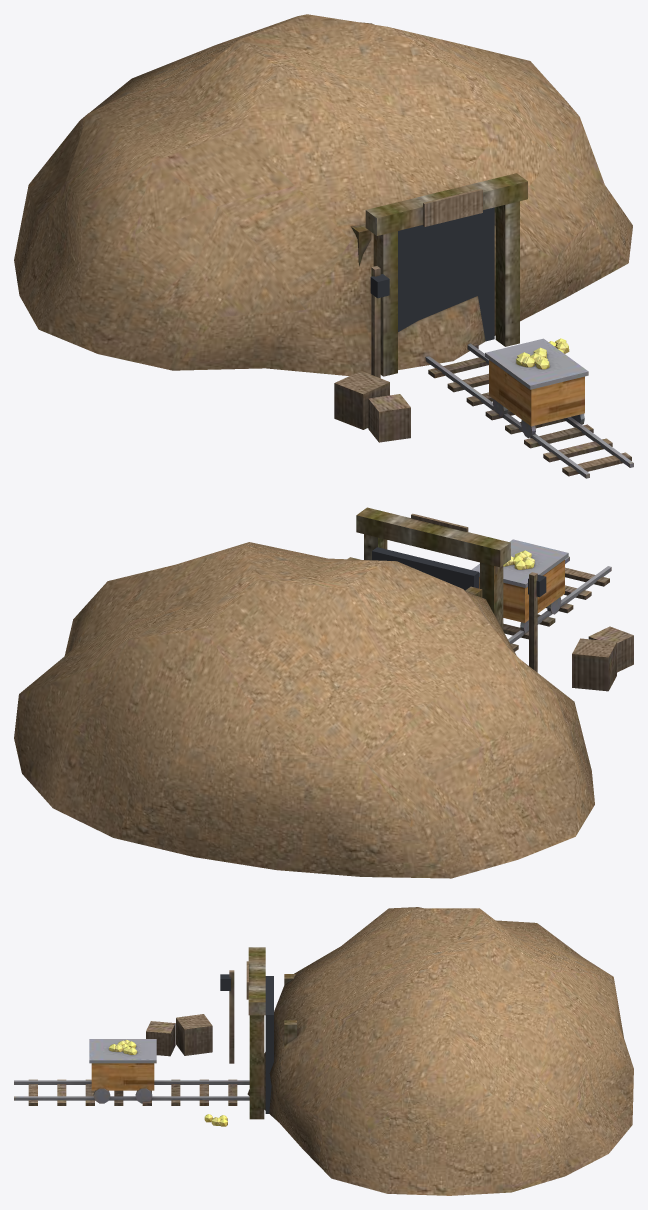
The model's file is mine.glb.
3 renders of one model, top to bottom at view 1: azimuth 30°, elevation 25°; view 2: azimuth 150°, elevation 25°; view 3: azimuth 270°, elevation 25°, orthographic. The views are drawn at different scales.
Parts seen in each view (by area): view 1: mine; view 2: mine; view 3: mine.
Part boxes in pixels (x1=…): mine: x1=14, y1=14, x2=633, y2=478; mine: x1=14, y1=507, x2=633, y2=878; mine: x1=14, y1=907, x2=633, y2=1195.
Size of the model in its own units: 11.45 by 4.34 by 14.79.
2 materials, 1 textured.
